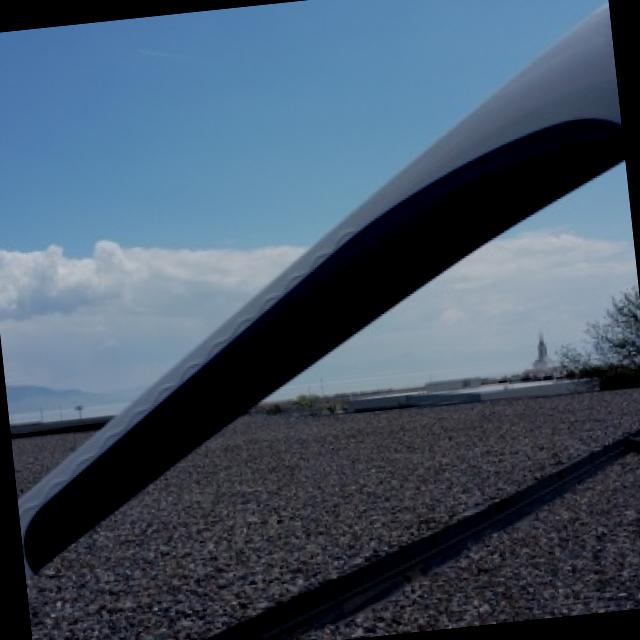healthy: (23, 5, 625, 576), (278, 164, 638, 395)
